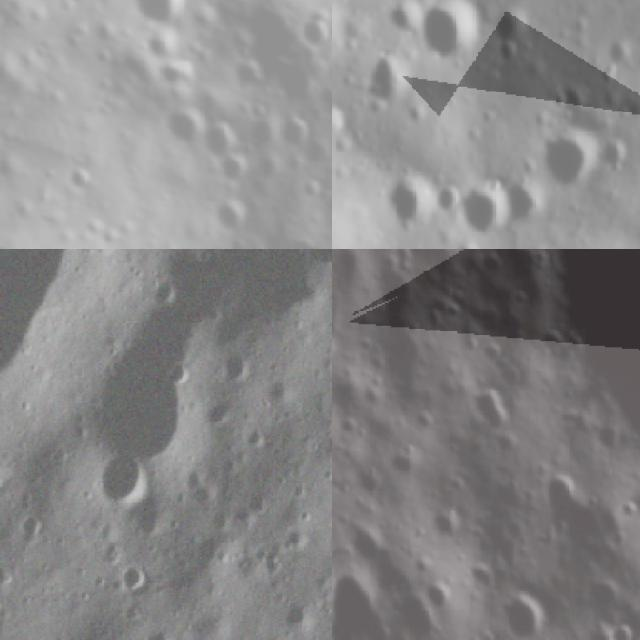crater: (499, 249, 640, 491), (59, 348, 215, 486), (156, 249, 311, 355), (0, 249, 94, 423), (526, 448, 639, 578), (82, 449, 162, 518), (411, 0, 484, 74), (454, 371, 519, 445), (534, 125, 604, 189), (374, 167, 438, 236), (456, 183, 521, 249), (493, 584, 554, 640), (505, 176, 556, 235), (421, 502, 470, 554), (489, 0, 529, 63), (381, 438, 429, 488), (373, 0, 418, 46), (211, 348, 254, 392), (163, 104, 205, 148), (298, 9, 332, 62), (278, 105, 318, 150), (136, 0, 191, 32), (117, 556, 154, 602), (209, 196, 249, 236), (475, 335, 516, 372), (415, 574, 453, 613), (278, 598, 318, 635), (356, 374, 390, 414), (242, 480, 278, 517), (282, 518, 316, 556), (260, 374, 294, 412), (213, 152, 250, 186), (410, 404, 443, 441), (332, 312, 348, 386), (425, 249, 492, 266), (205, 395, 234, 433), (600, 615, 640, 640), (19, 510, 48, 544), (205, 120, 232, 154), (302, 249, 332, 278), (332, 100, 349, 147), (67, 161, 88, 196), (137, 625, 180, 640), (0, 451, 9, 485)
